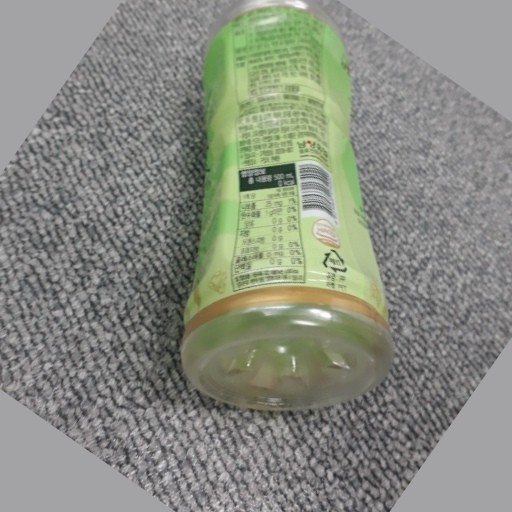Plastic_0: (177, 1, 394, 406)
